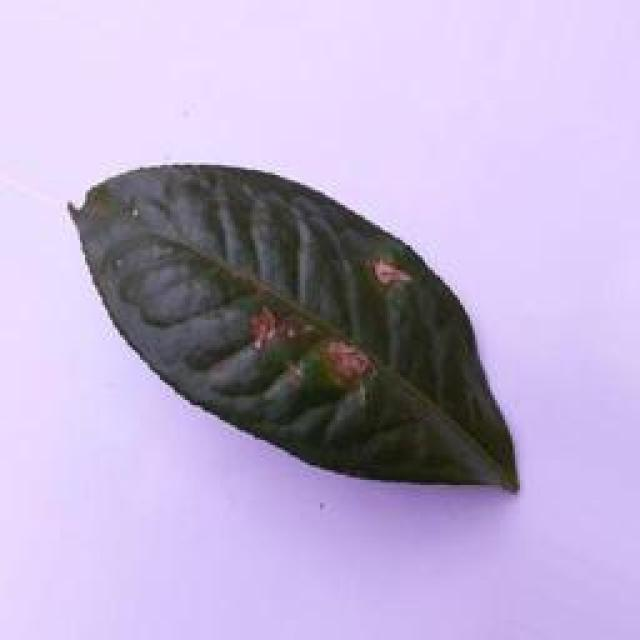Gray Blight: (65, 160, 527, 502)
